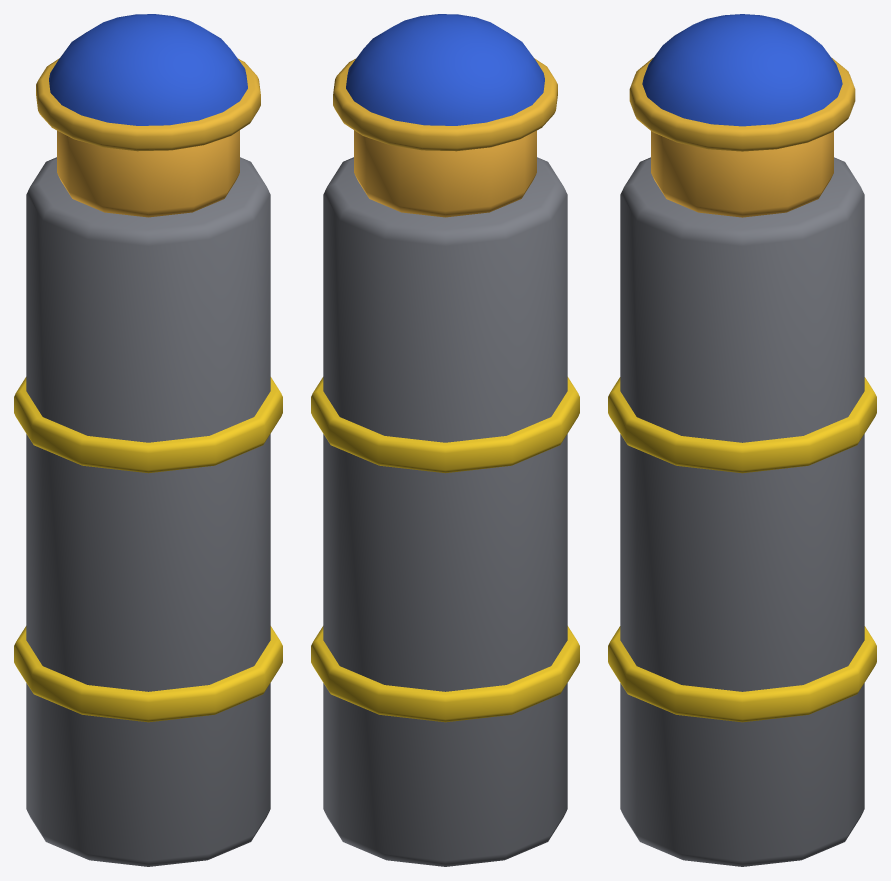
Rendered from WallCorner.glb.
3 views of the same model, side by side, from view 1: azimuth 30°, elevation 25°; view 2: azimuth 150°, elevation 25°; view 3: azimuth 270°, elevation 25° (orthographic).
Parts seen in each view (by area): view 1: WallCorner; view 2: WallCorner; view 3: WallCorner.
Part boxes in pixels (bbox=[...]): WallCorner: bbox=[14, 14, 282, 866]; WallCorner: bbox=[311, 14, 579, 866]; WallCorner: bbox=[608, 14, 876, 866].
Size of the model in its own units: 0.88 by 2.87 by 0.88.
